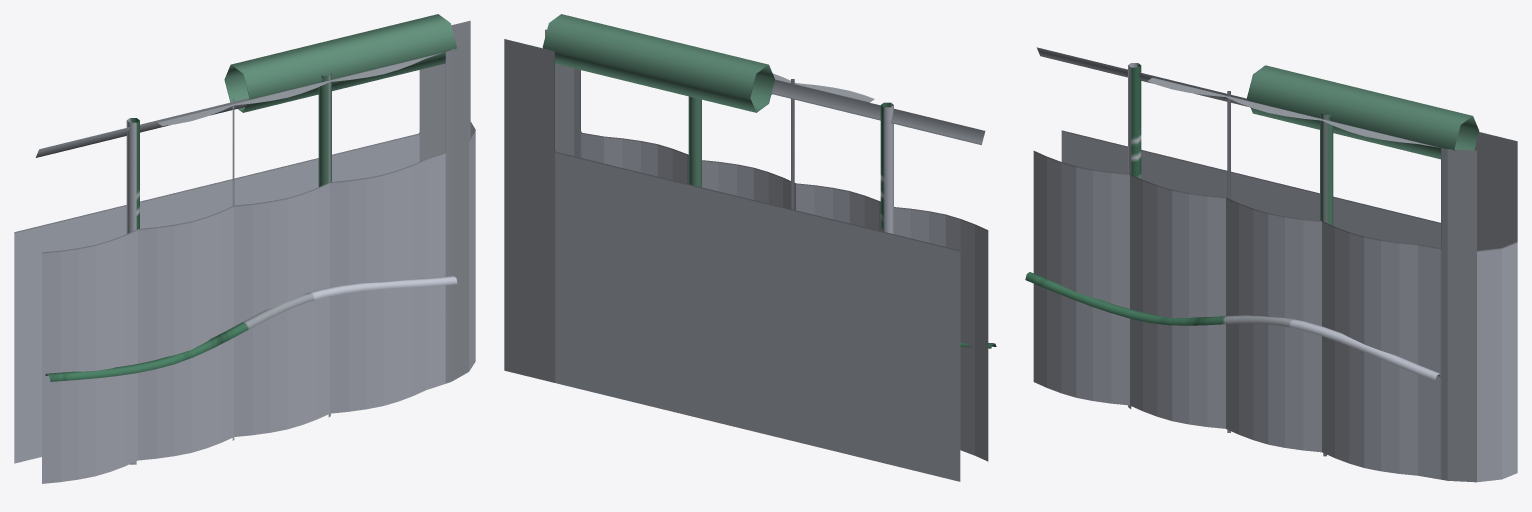
The model's file is section-1.obj.
The picture shows the model from 3 angles, left to right: view 1: azimuth 30°, elevation 25°; view 2: azimuth 150°, elevation 25°; view 3: azimuth 330°, elevation 25°; orthographic projection.
Size of the model in its own units: 0.95 by 0.7419 by 0.1314.
